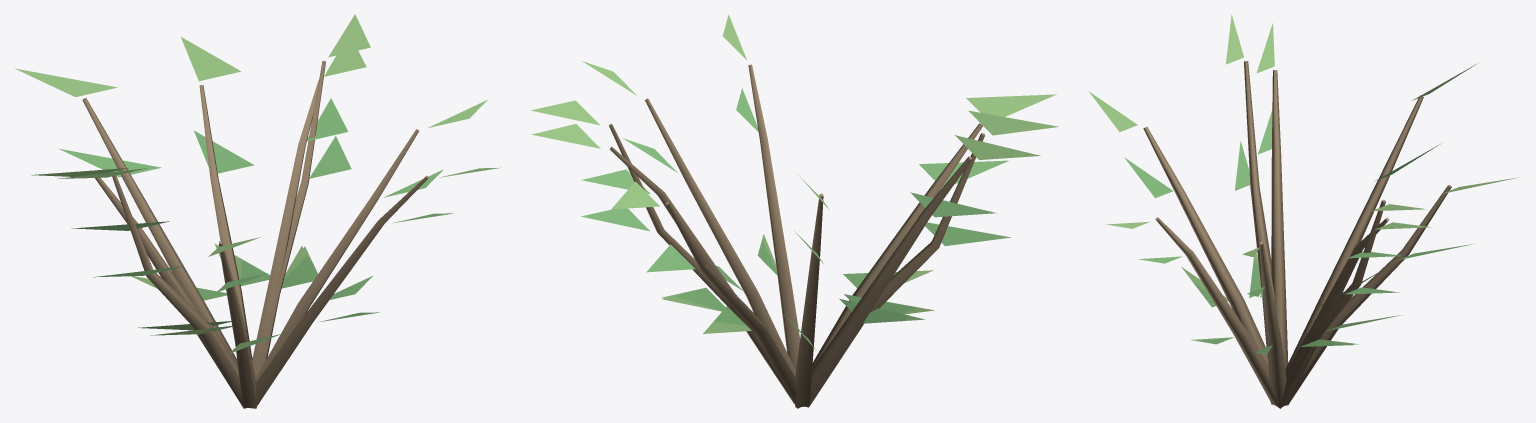
The model's file is busch_4.glb.
The picture shows the model from 3 angles, left to right: view 1: azimuth 30°, elevation 25°; view 2: azimuth 150°, elevation 25°; view 3: azimuth 270°, elevation 25°; orthographic projection. The views are drawn at different scales.
Parts seen in each view (by area): view 1: G_busch_4; view 2: G_busch_4; view 3: G_busch_4.
Part boxes in pixels (bbox=[...]): G_busch_4: bbox=[15, 14, 501, 408]; G_busch_4: bbox=[530, 14, 1058, 408]; G_busch_4: bbox=[1089, 15, 1517, 408].
Bounding box in the file's own units: 2.69 × 1.73 × 2.35.
